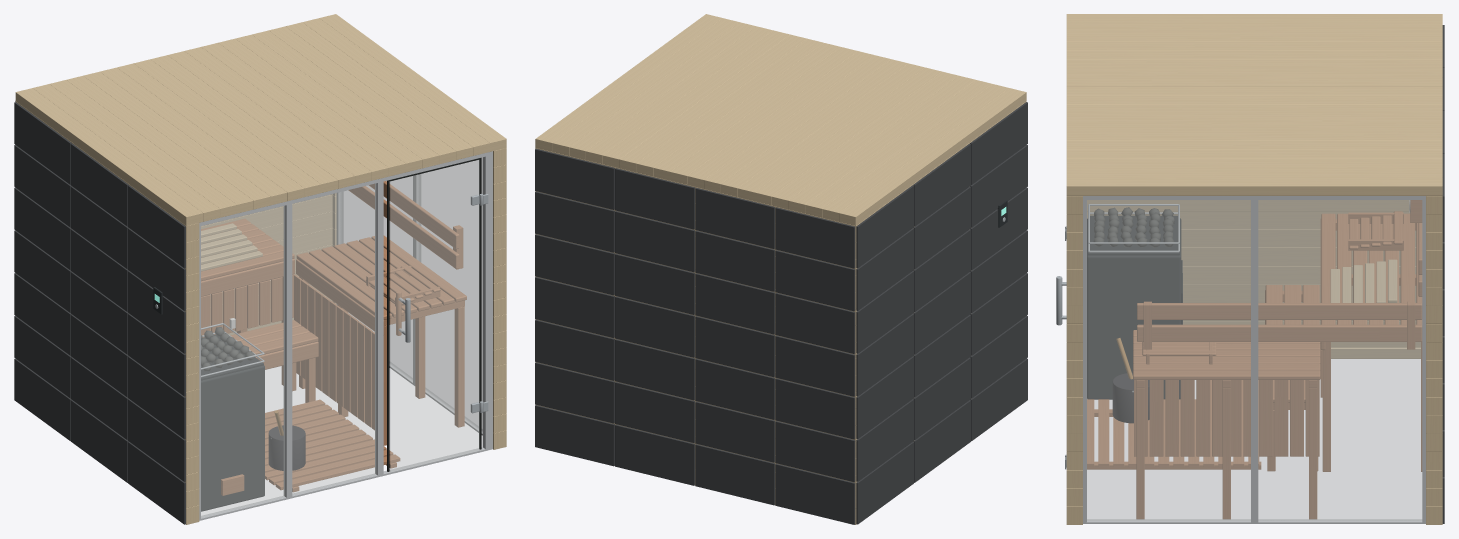
Rendered from designer-espe-schiefer.glb.
3 renders of one model, left to right at view 1: azimuth 30°, elevation 25°; view 2: azimuth 150°, elevation 25°; view 3: azimuth 270°, elevation 25°, orthographic. The views are drawn at different scales.
Parts seen in each view (by area): view 1: Door glass 8mm, Glass front pane 8mm.001, Glass front pane 8mm, Glass front pane 8mm.002, Heater casing, Ceiling board 01, Glass front pane 8mm.003, Ceiling board 05, Ceiling board 13, Ceiling board 16, Ceiling board 06, Ceiling board 07 (+74 smaller); view 2: Ceiling board 01, Slate tile 06-04, Slate tile 03-04, Slate tile 07-04, Slate tile 01-04, Slate tile 02-04, Slate tile 04-04, Slate tile 05-04, Slate tile 01-03, Slate tile 07-02, Slate tile 01-02, Slate tile 02-01 (+56 smaller); view 3: Glass front pane 8mm.002, Glass front pane 8mm.003, Heater casing, Ceiling board 19, Side backrest right slat 1, Side backrest right slat 2, Ceiling board 09, Ceiling board 03, Ceiling board 04, Ceiling board 05, Ceiling board 06, Ceiling board 07 (+61 smaller).
Part boxes in pixels (box(x1,y1,x2,y2)): Door glass 8mm: box(390, 160, 479, 471); Glass front pane 8mm.001: box(292, 183, 376, 494); Glass front pane 8mm: box(201, 206, 284, 516); Glass front pane 8mm.002: box(418, 157, 482, 430); Heater casing: box(201, 365, 264, 511); Ceiling board 01: box(15, 88, 202, 225); Glass front pane 8mm.003: box(340, 176, 412, 379); Ceiling board 05: box(83, 71, 270, 209); Ceiling board 13: box(218, 38, 405, 176); Ceiling board 16: box(269, 26, 456, 164); Ceiling board 06: box(100, 67, 287, 205); Ceiling board 07: box(117, 63, 304, 201); Ceiling board 01: box(839, 88, 1026, 225); Slate tile 06-04: box(775, 250, 855, 311); Slate tile 03-04: box(775, 378, 855, 439); Slate tile 07-04: box(775, 207, 855, 268); Slate tile 01-04: box(775, 463, 855, 524); Slate tile 02-04: box(775, 421, 855, 481); Slate tile 04-04: box(775, 335, 855, 396); Slate tile 05-04: box(775, 293, 855, 353); Slate tile 01-03: box(695, 444, 774, 505); Slate tile 07-02: box(615, 168, 694, 229); Slate tile 01-02: box(615, 424, 694, 485); Slate tile 02-01: box(535, 362, 614, 423); Glass front pane 8mm.002: box(1087, 200, 1250, 520); Glass front pane 8mm.003: box(1258, 200, 1421, 520); Heater casing: box(1087, 218, 1181, 399); Ceiling board 19: box(1066, 177, 1442, 195); Side backrest right slat 1: box(1137, 324, 1422, 341); Side backrest right slat 2: box(1137, 303, 1422, 319); Ceiling board 09: box(1066, 86, 1442, 95); Ceiling board 03: box(1066, 32, 1442, 41); Ceiling board 04: box(1066, 41, 1442, 50); Ceiling board 05: box(1066, 50, 1442, 59); Ceiling board 06: box(1066, 59, 1442, 68); Ceiling board 07: box(1066, 68, 1442, 77).
Bounding box in the file's own units: 2.23 × 2.02 × 2.1.
Materials: 16 (4 with a texture image).
